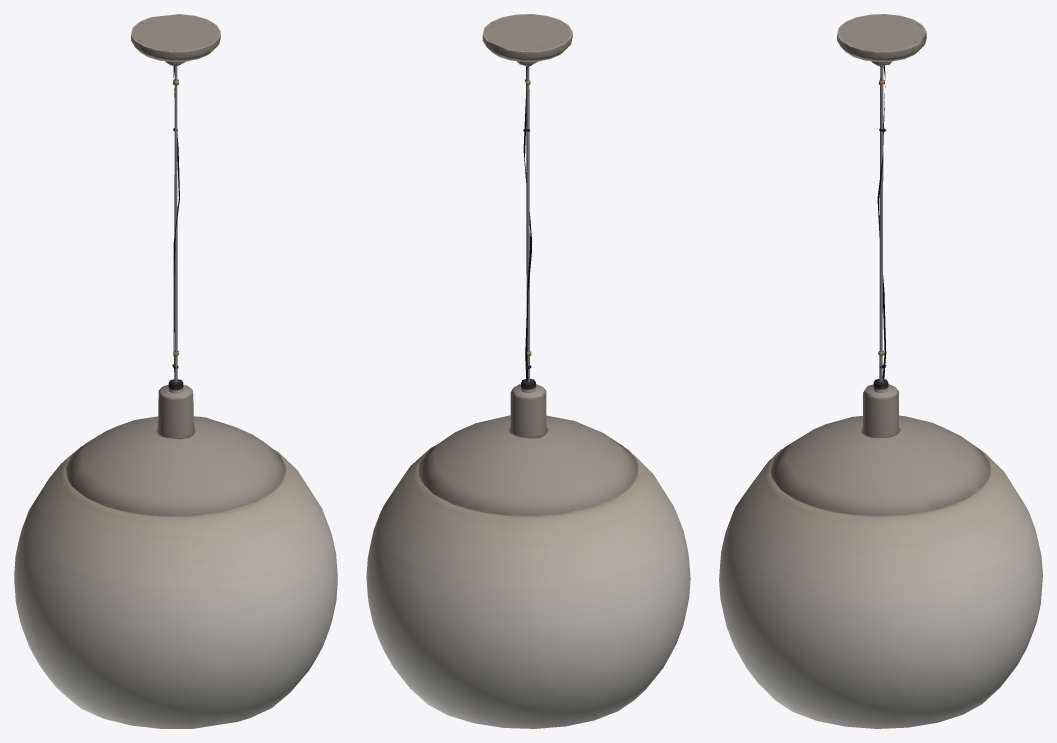
File: modern_ceiling_lamp_01.glb
3 renders of one model, left to right at view 1: azimuth 30°, elevation 25°; view 2: azimuth 150°, elevation 25°; view 3: azimuth 270°, elevation 25°, orthographic.
Parts seen in each view (by area): view 1: modern_ceiling_lamp_01; view 2: modern_ceiling_lamp_01; view 3: modern_ceiling_lamp_01.
Part boxes in pixels (<box>): modern_ceiling_lamp_01: <box>14,14,337,728</box>; modern_ceiling_lamp_01: <box>366,14,690,728</box>; modern_ceiling_lamp_01: <box>719,14,1042,728</box>.
Size of the model in its own units: 0.4316 by 0.9512 by 0.4316.
2 materials, 2 textured.
